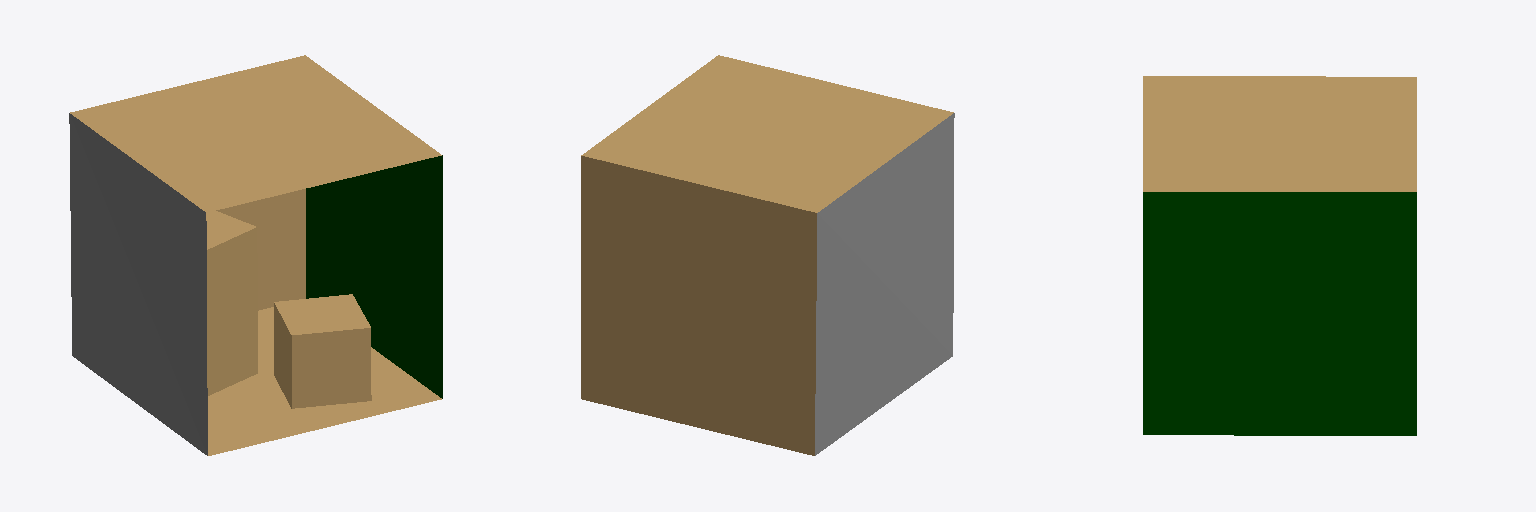
File: cornell.obj
The picture shows the model from 3 angles: view 1: azimuth 30°, elevation 25°; view 2: azimuth 150°, elevation 25°; view 3: azimuth 270°, elevation 25°; orthographic projection.
Visible parts, largest first — view 1: left_wall, ceiling, right_wall, floor, short_box, tall_box, back_wall; view 2: back_wall, left_wall, ceiling; view 3: right_wall, ceiling.
Part boxes in pixels (left/top/right/bottom): left_wall: left=69, top=113, right=207, bottom=455; ceiling: left=70, top=55, right=441, bottom=212; right_wall: left=306, top=155, right=442, bottom=398; floor: left=208, top=307, right=441, bottom=455; short_box: left=274, top=294, right=371, bottom=408; tall_box: left=206, top=211, right=257, bottom=395; back_wall: left=216, top=189, right=305, bottom=310; back_wall: left=581, top=156, right=816, bottom=455; left_wall: left=815, top=113, right=954, bottom=455; ceiling: left=581, top=55, right=953, bottom=212; right_wall: left=1143, top=192, right=1416, bottom=435; ceiling: left=1143, top=76, right=1416, bottom=191.
Bounding box in the file's own units: 5.56 × 5.49 × 5.6.